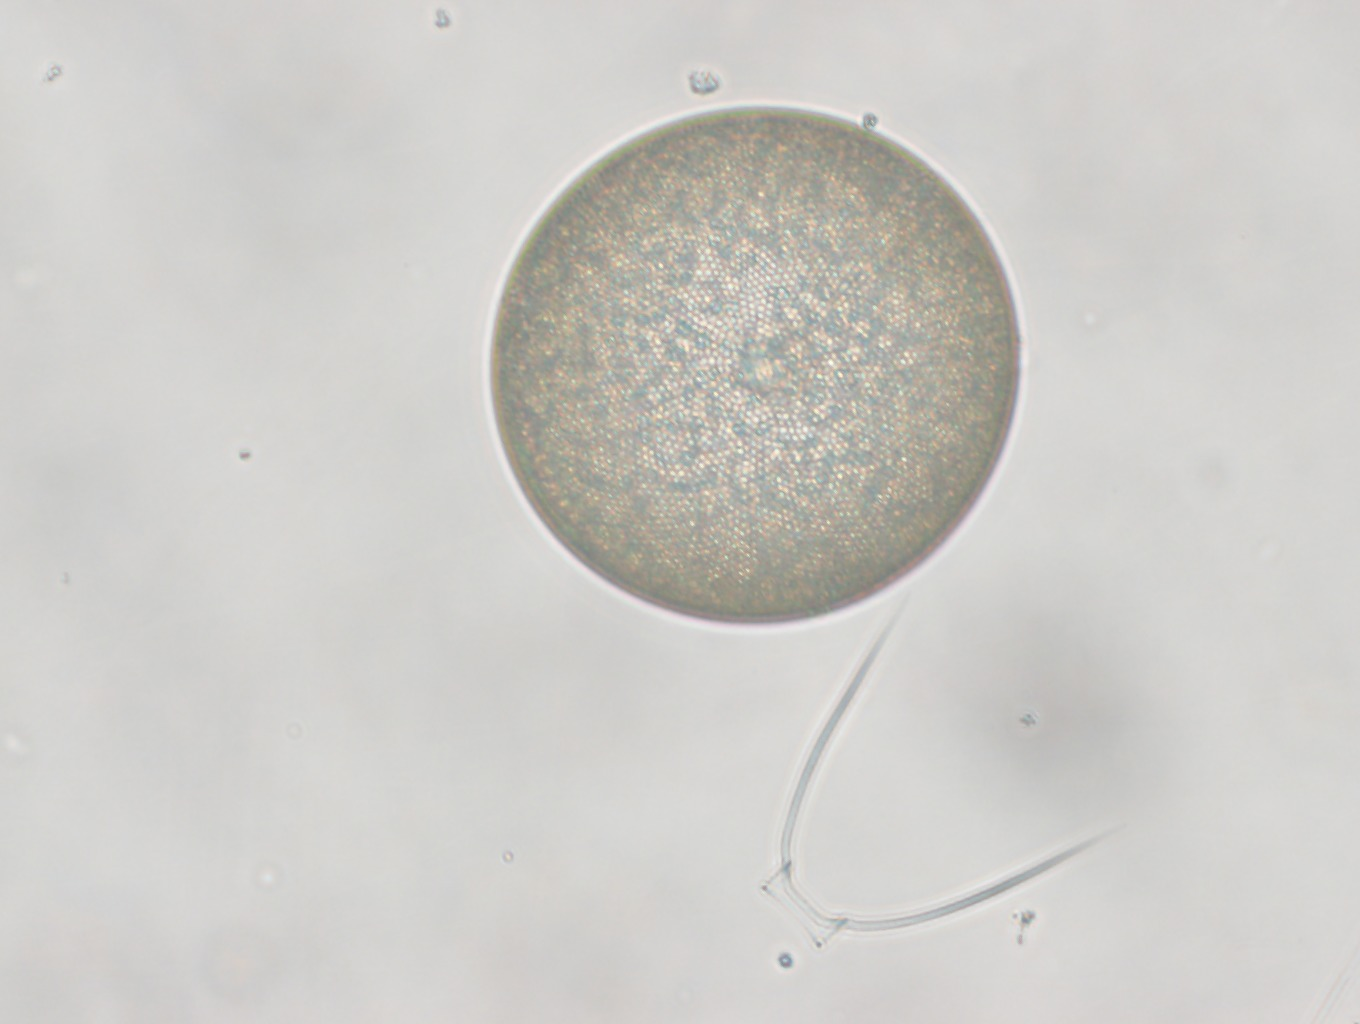chaetoceros: (736, 592, 1108, 954)
coscinodiscus: (479, 104, 1020, 627)
